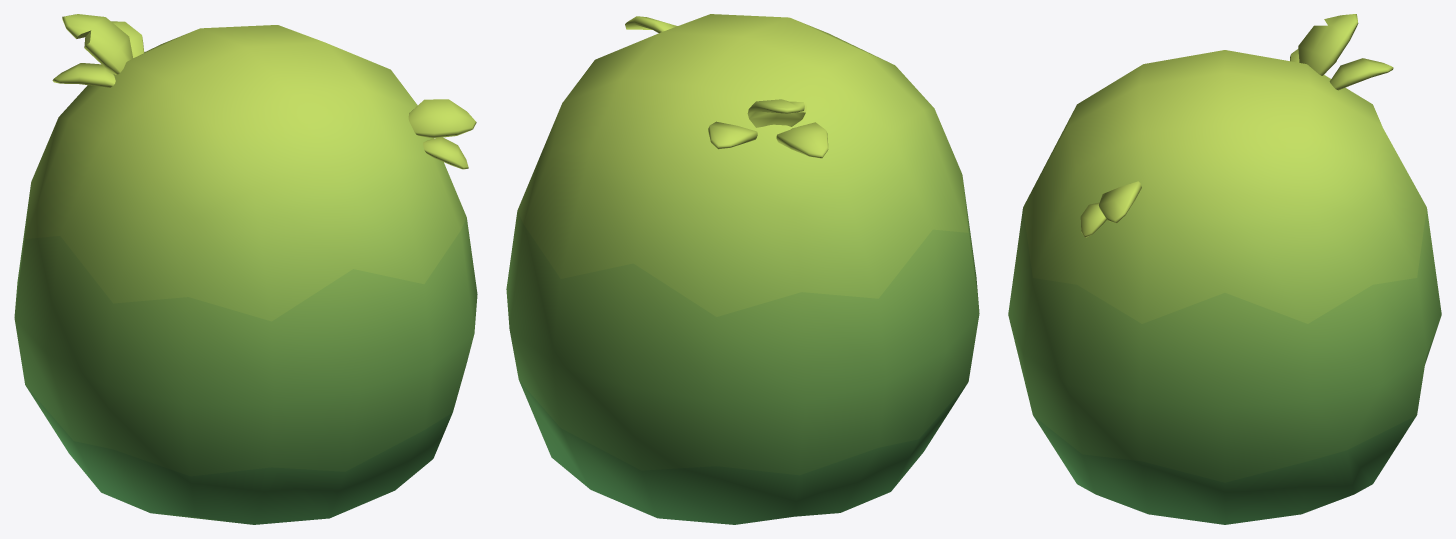
The model's file is platform_kit005.fbx.
The picture shows the model from 3 angles, left to right: view 1: azimuth 30°, elevation 25°; view 2: azimuth 150°, elevation 25°; view 3: azimuth 270°, elevation 25°; orthographic projection. The views are drawn at different scales.
Visible parts, largest first — view 1: platform_kit005; view 2: platform_kit005; view 3: platform_kit005.
Boxes of the visible parts, box(x1,y1,x2,y2) form: platform_kit005: box(14, 14, 477, 524); platform_kit005: box(506, 14, 979, 524); platform_kit005: box(1008, 14, 1441, 524).
Bounding box in the file's own units: 168 × 173 × 168.
Materials: 1 (1 with a texture image).
